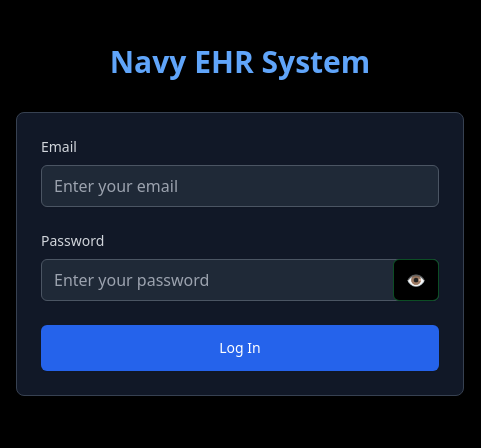
Test: Login.vue › shows error on fetch/network error
In the field with id "email": (240, 186) [41,165,439,207], type "fail@example.com"
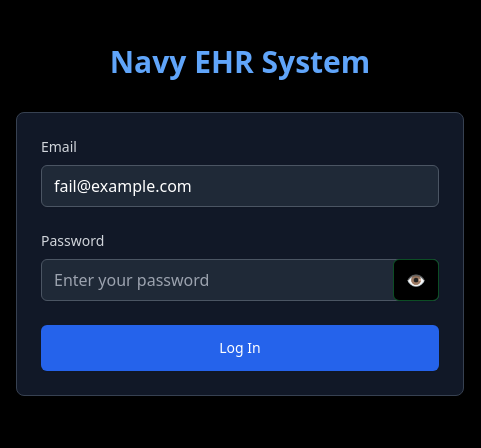
In the password field labelled "Password": (240, 280) [41,259,439,301], type "wrong"
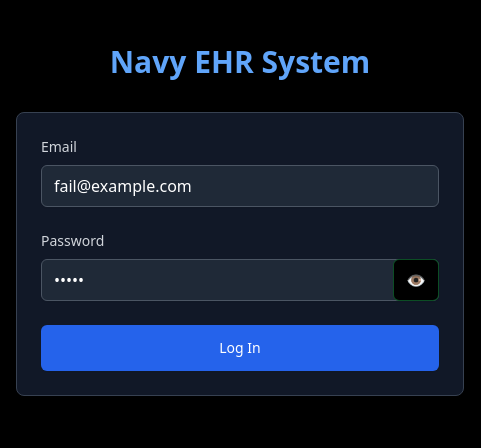
Submit the form, box [41,137,439,371]
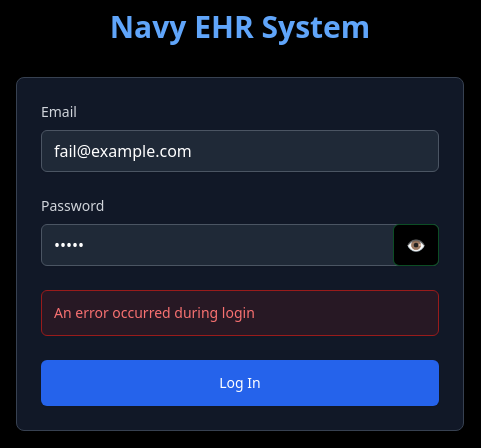
Expected: the text "An error occurred during login" is shown, [41,290,439,336]
